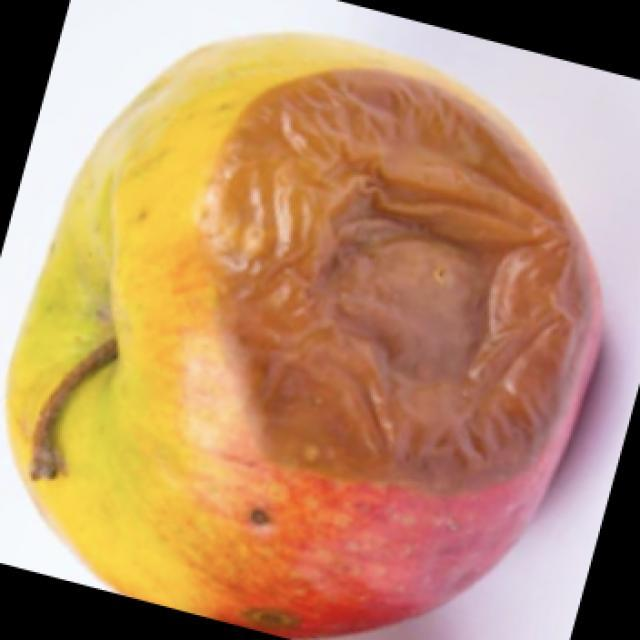Rotten: (50, 33, 600, 640)
